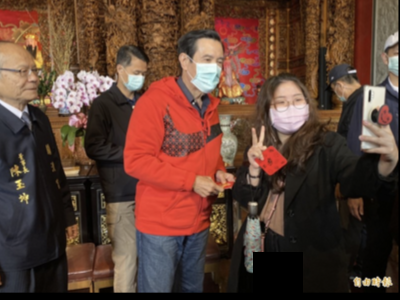with_mask: (268, 90, 311, 134), (187, 52, 226, 92), (120, 65, 148, 92), (387, 48, 399, 75), (332, 84, 349, 102)
without_mask: (4, 60, 39, 101)
